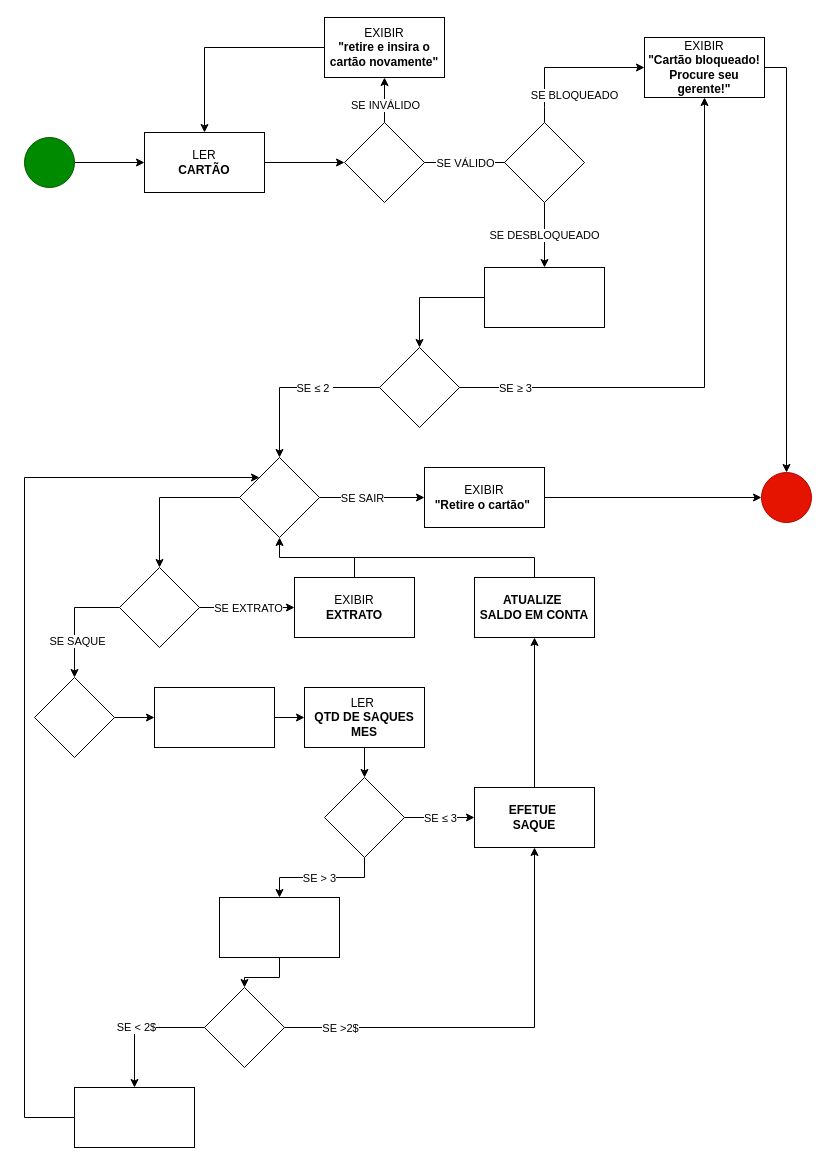
The diagram is 829 pixels wide and 1165 high, and some of its shapes have lost their labels. Each missing label, with the centre of its shape:
EXIBIR "Saldo insuficiente": point (134, 1117)
INSIRA SENHA CARTÃO: point (544, 297)
LER VALOR SAQUE: point (214, 717)
TAXA 2 REAIS: point (279, 927)
